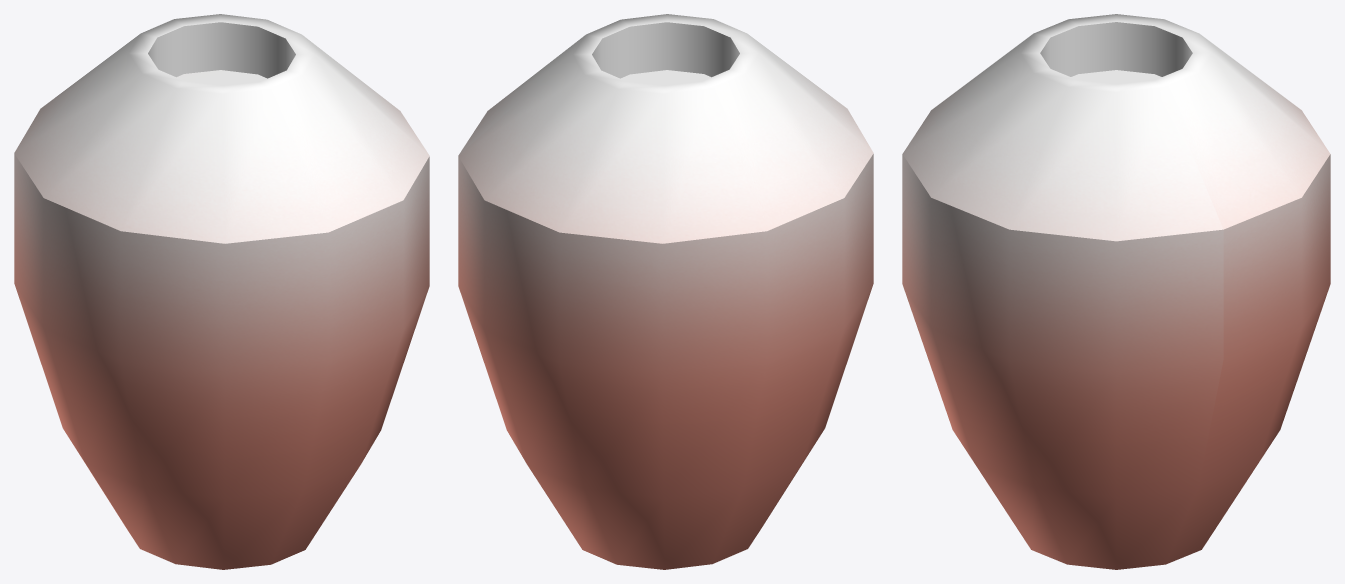
Rendered from vase4.fbx.
3 renders of one model, left to right at view 1: azimuth 30°, elevation 25°; view 2: azimuth 150°, elevation 25°; view 3: azimuth 270°, elevation 25°, orthographic.
Parts seen in each view (by area): view 1: pCylinder5; view 2: pCylinder5; view 3: pCylinder5.
Part boxes in pixels (x1=…): pCylinder5: x1=14, y1=14, x2=429, y2=569; pCylinder5: x1=458, y1=14, x2=873, y2=569; pCylinder5: x1=902, y1=14, x2=1330, y2=569.
Bounding box in the file's own units: 0.5428 × 0.6903 × 0.5618.
Materials: 1 (1 with a texture image).
